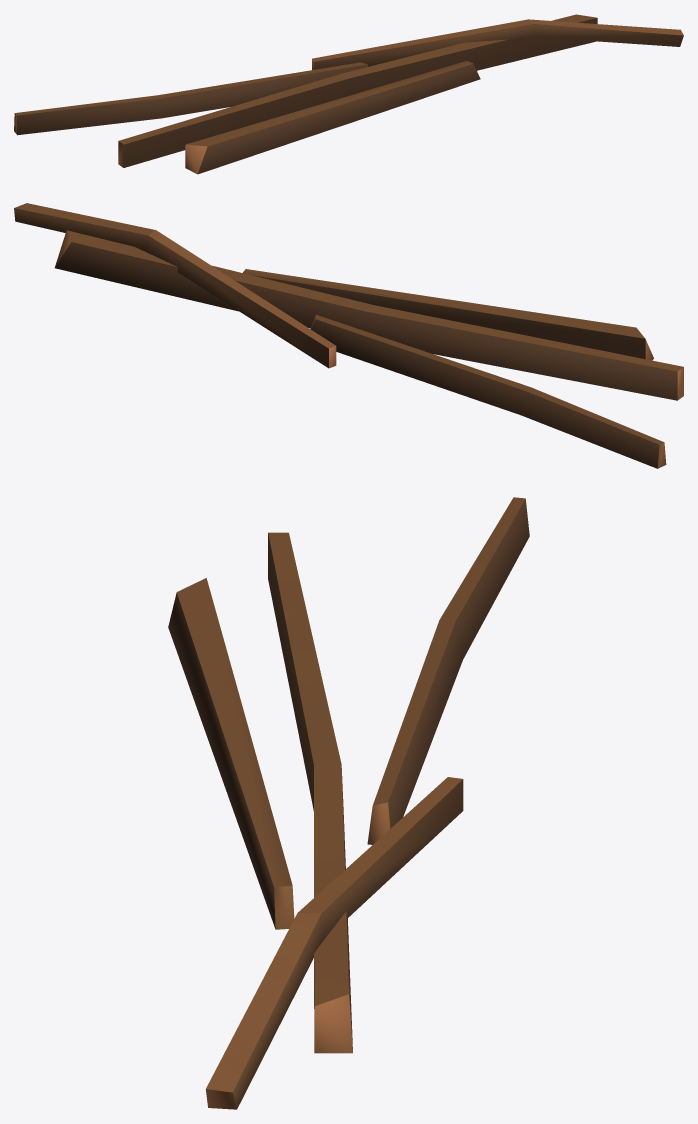
The model's file is Wooden_Twigs_1C.fbx.
3 renders of one model, top to bottom at view 1: azimuth 30°, elevation 25°; view 2: azimuth 150°, elevation 25°; view 3: azimuth 270°, elevation 25°, orthographic. The views are drawn at different scales.
Parts seen in each view (by area): view 1: Wooden_Twigs_1C; view 2: Wooden_Twigs_1C; view 3: Wooden_Twigs_1C.
Boxes of the visible parts, x1=… form: Wooden_Twigs_1C: x1=14, y1=14, x2=683, y2=174; Wooden_Twigs_1C: x1=14, y1=203, x2=683, y2=468; Wooden_Twigs_1C: x1=168, y1=497, x2=529, y2=1109.
Bounding box in the file's own units: 132 × 7.89 × 34.88.
